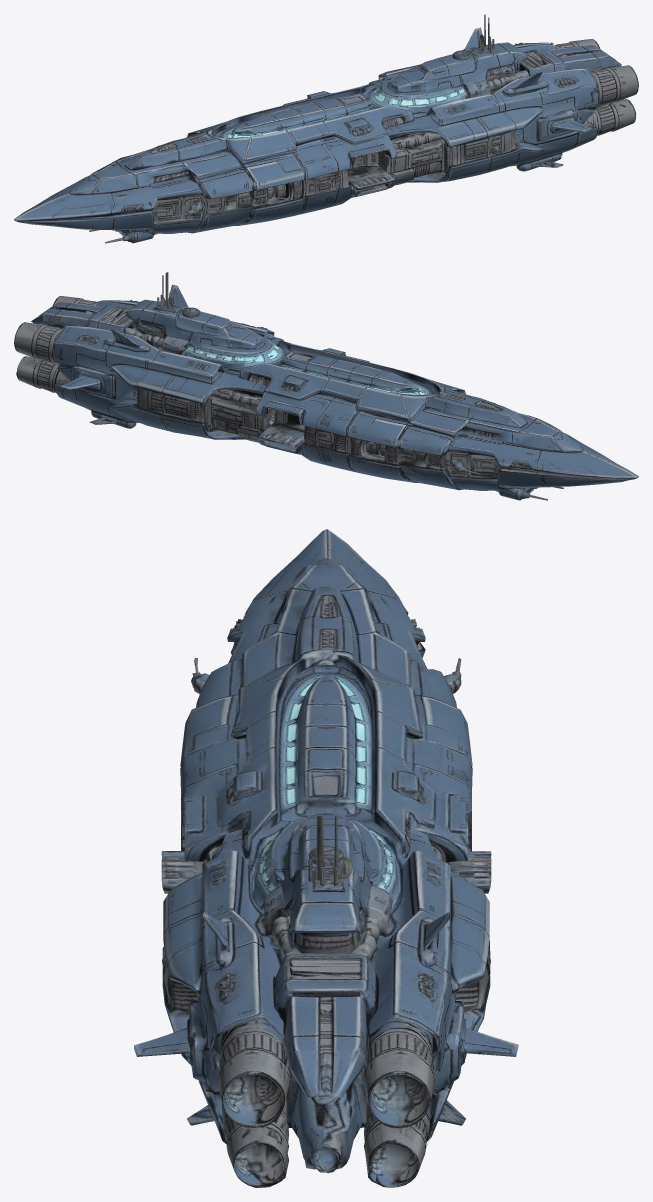
File: picket.glb
The picture shows the model from 3 angles, top to bottom: view 1: azimuth 30°, elevation 25°; view 2: azimuth 150°, elevation 25°; view 3: azimuth 270°, elevation 25°; orthographic projection. The views are drawn at different scales.
Bounding box in the file's own units: 0.957 × 0.2119 × 0.2642.
1 material, 1 textured.
